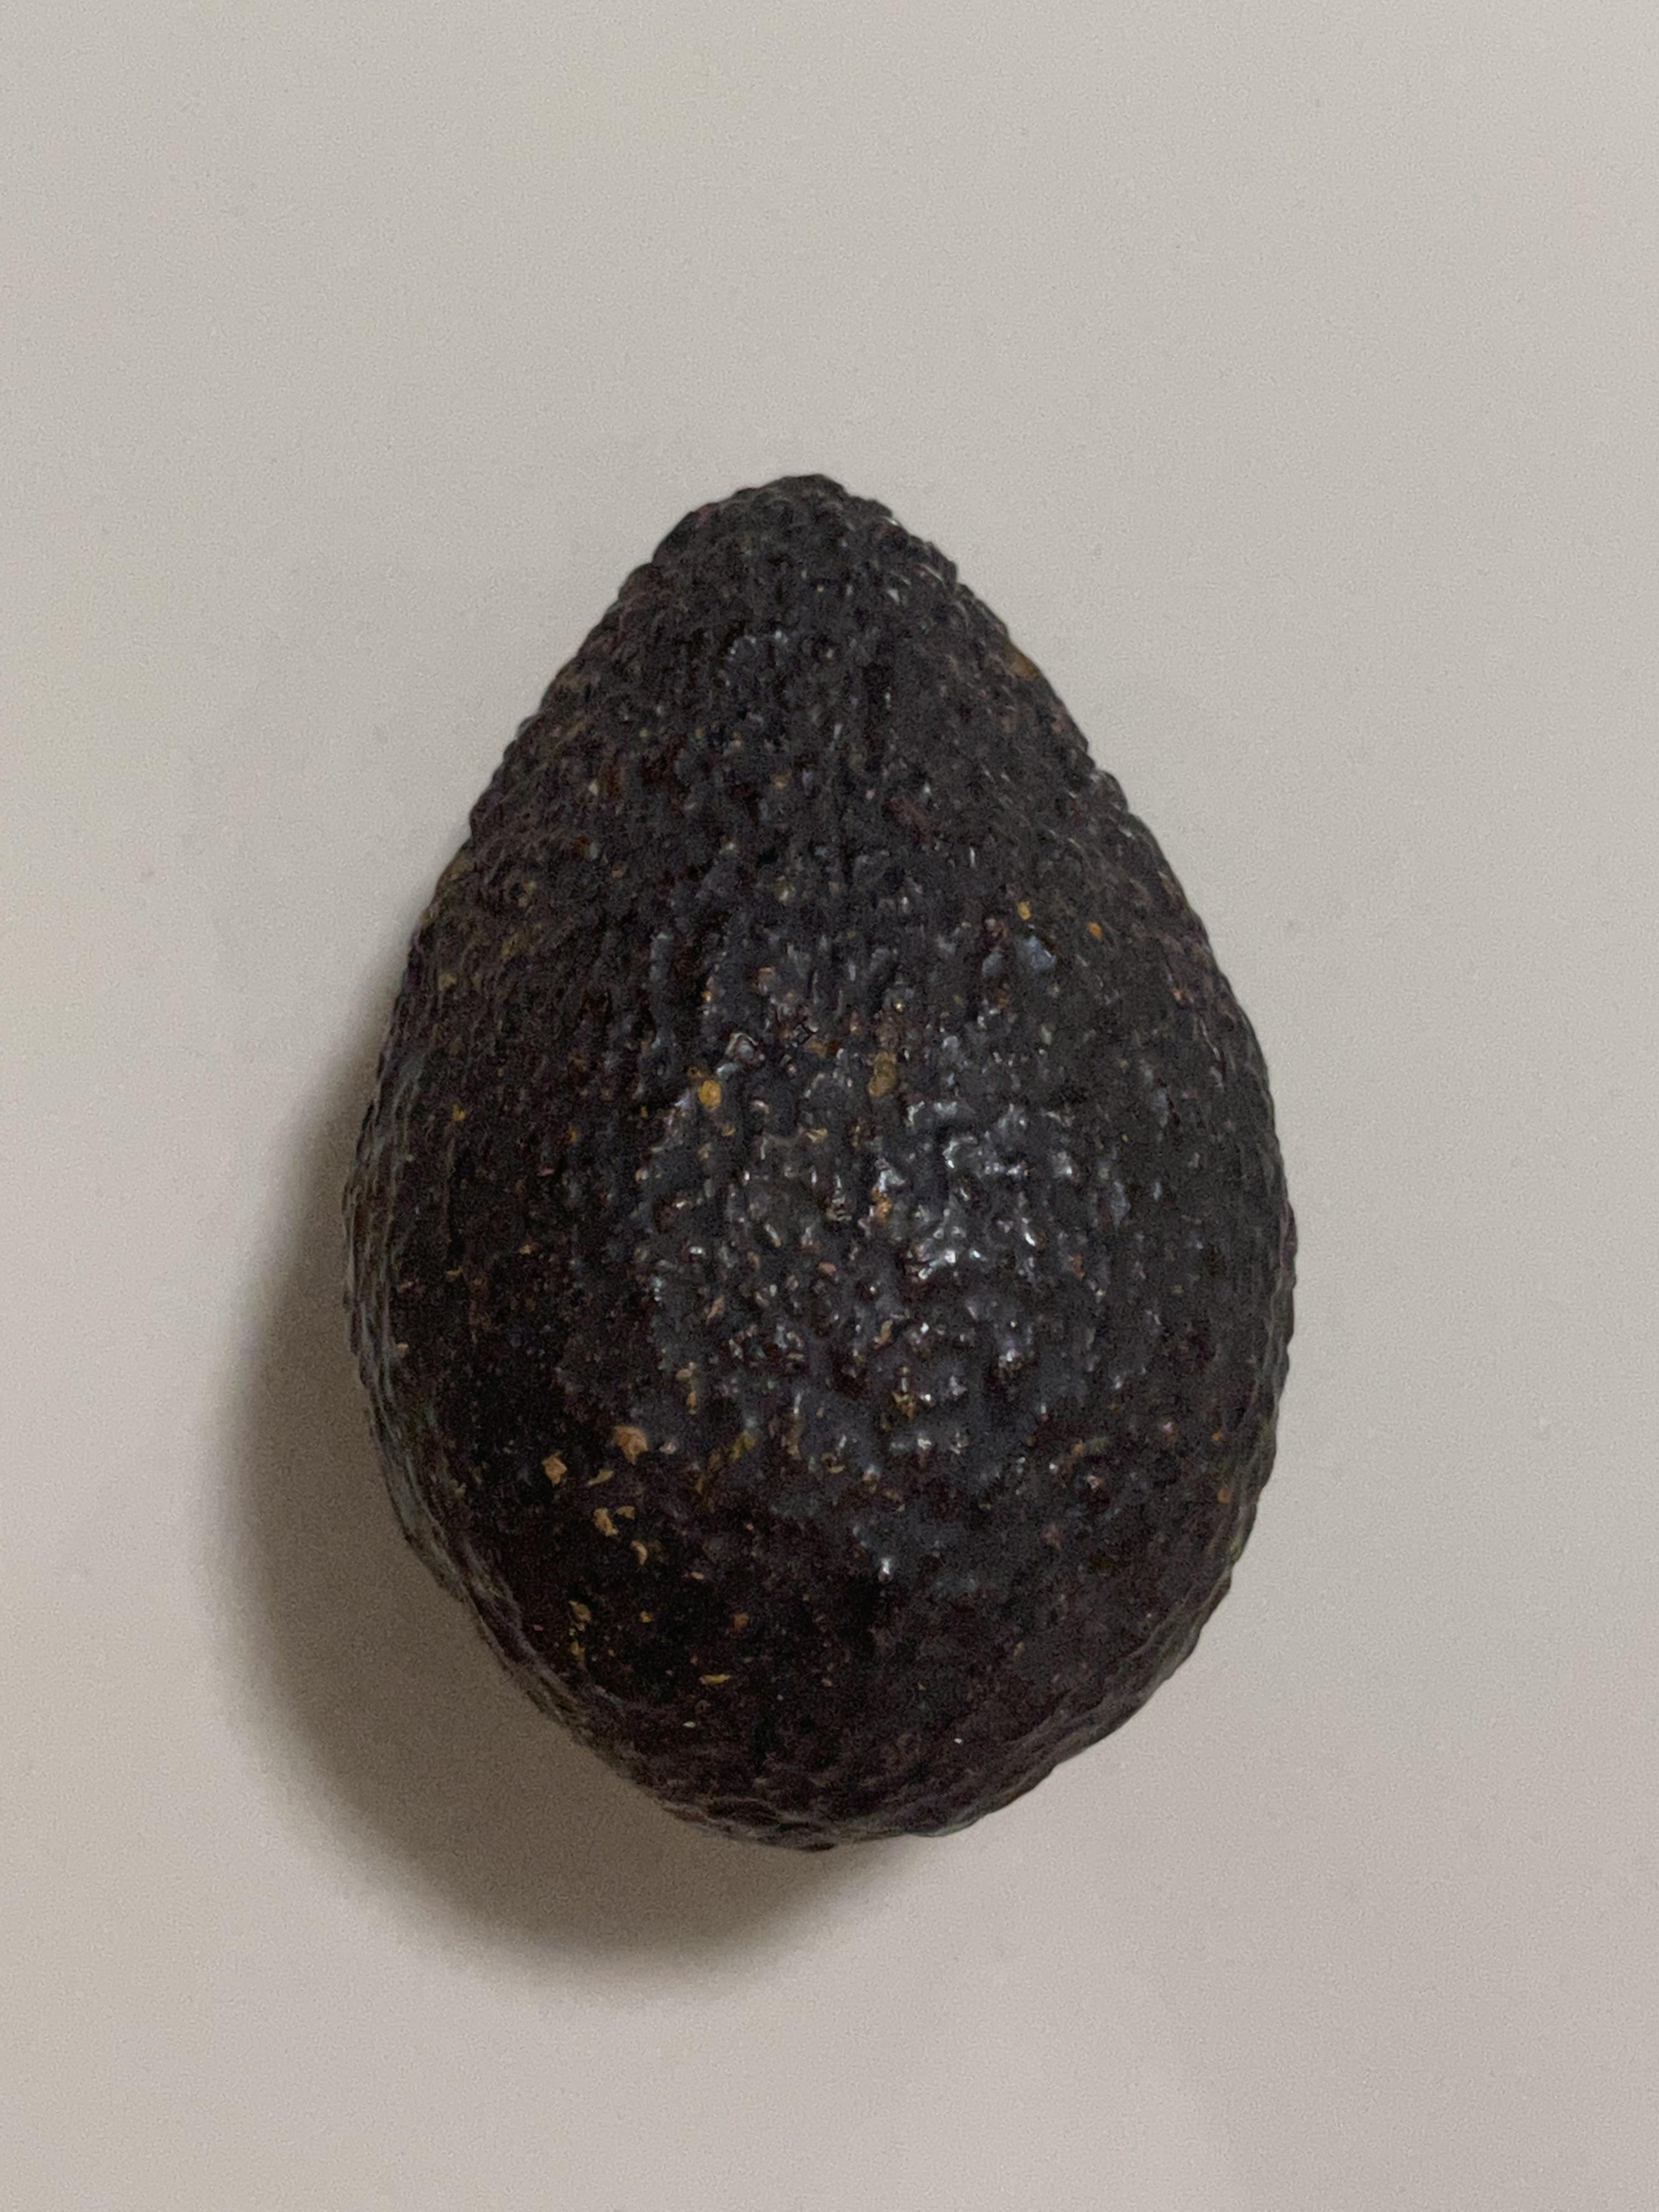Level4: (319, 444, 1328, 1874)
